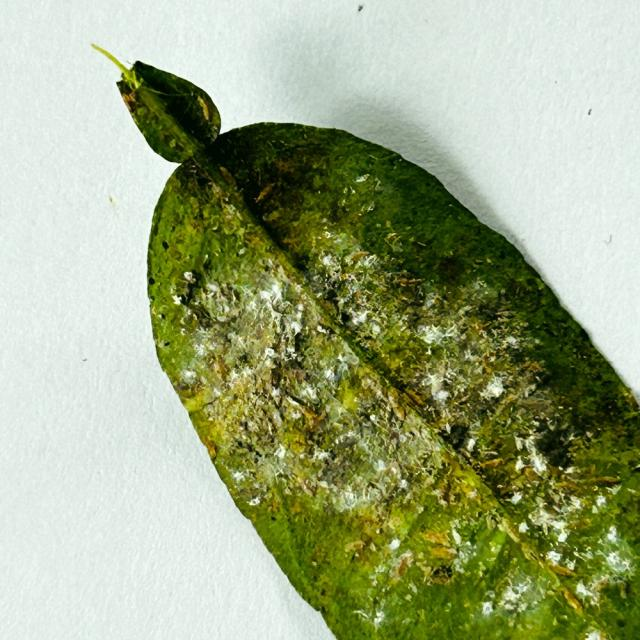Bacterial_Blight: (368, 361, 438, 428), (260, 152, 330, 213), (316, 433, 369, 489), (528, 422, 577, 470), (296, 411, 335, 452), (432, 252, 469, 293), (180, 269, 207, 307), (332, 380, 359, 418), (183, 298, 217, 328), (178, 159, 208, 185), (446, 422, 473, 449), (395, 277, 424, 301), (208, 353, 230, 381), (291, 328, 308, 360), (255, 182, 276, 203), (286, 390, 310, 408), (173, 377, 197, 395), (430, 565, 454, 582), (218, 166, 237, 187), (272, 299, 292, 316), (167, 244, 183, 261), (339, 310, 354, 326), (626, 457, 640, 471), (202, 256, 212, 272), (616, 618, 626, 628), (387, 157, 398, 166), (161, 240, 169, 251), (474, 258, 485, 266), (148, 276, 156, 286), (158, 312, 166, 321), (320, 588, 327, 597), (320, 605, 327, 614), (270, 515, 277, 521), (425, 182, 432, 188), (163, 341, 170, 347)
Lemon: (115, 61, 639, 639)
